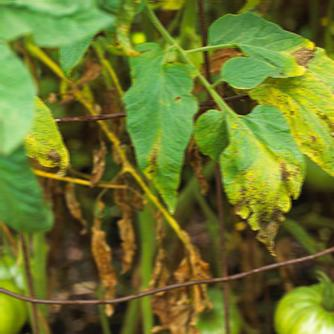Tomato Septoria leaf spot: (219, 108, 308, 251), (247, 60, 334, 187), (271, 32, 334, 130)
